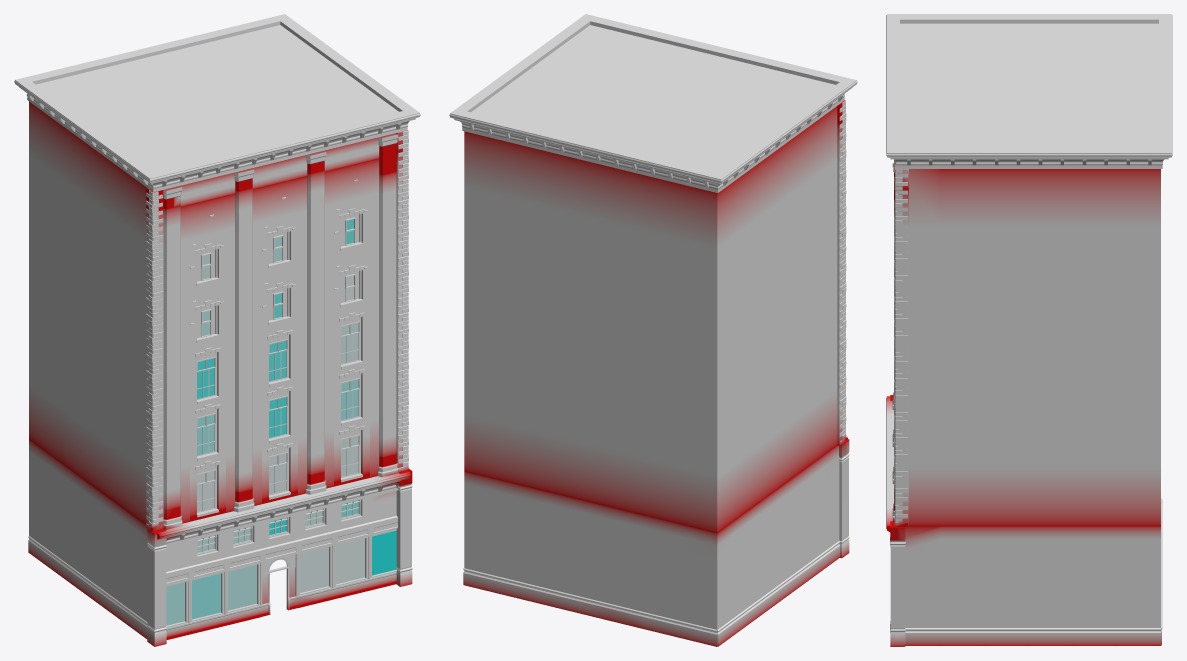
The model's file is Building_Medium_2_001.gltf.
3 renders of one model, left to right at view 1: azimuth 30°, elevation 25°; view 2: azimuth 150°, elevation 25°; view 3: azimuth 270°, elevation 25°, orthographic. The views are drawn at different scales.
Parts seen in each view (by area): view 1: Building_Medium_2_001; view 2: Building_Medium_2_001; view 3: Building_Medium_2_001.
Boxes of the visible parts, box(x1,y1,x2,y2) form: Building_Medium_2_001: box(14, 14, 420, 646); Building_Medium_2_001: box(449, 14, 857, 646); Building_Medium_2_001: box(886, 14, 1172, 646).
Size of the model in its own units: 15.06 by 25.01 by 13.06.
